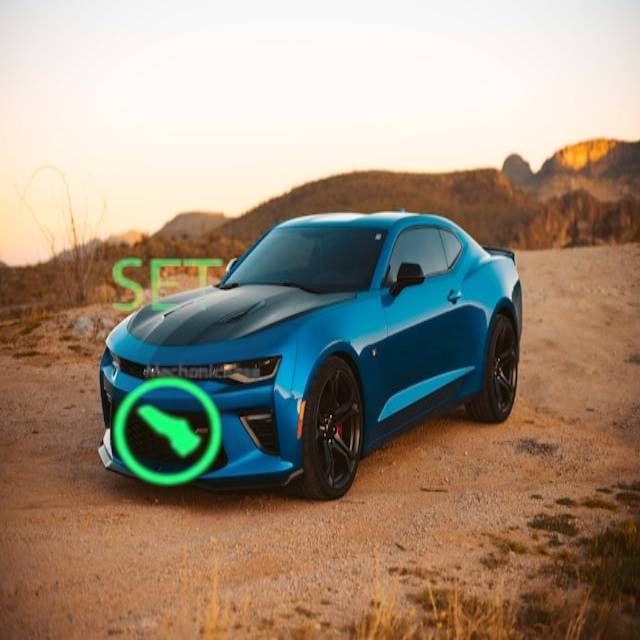symbol: (69, 329, 276, 536), (66, 186, 268, 388)
